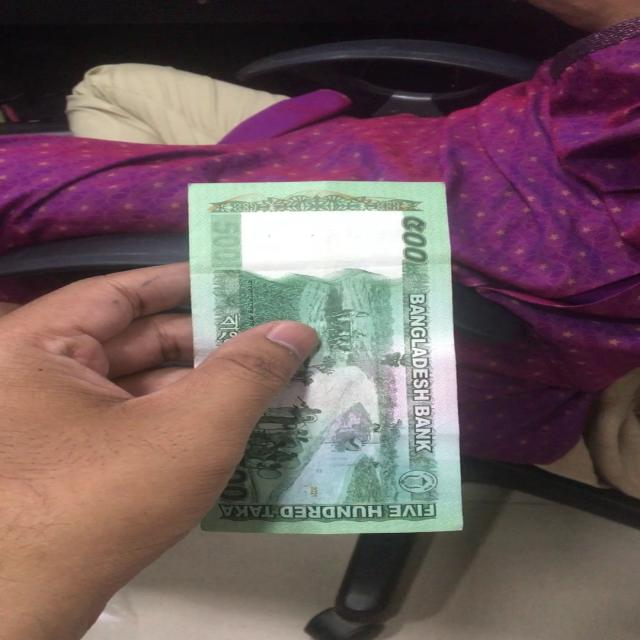Taka: (199, 184, 459, 527)
